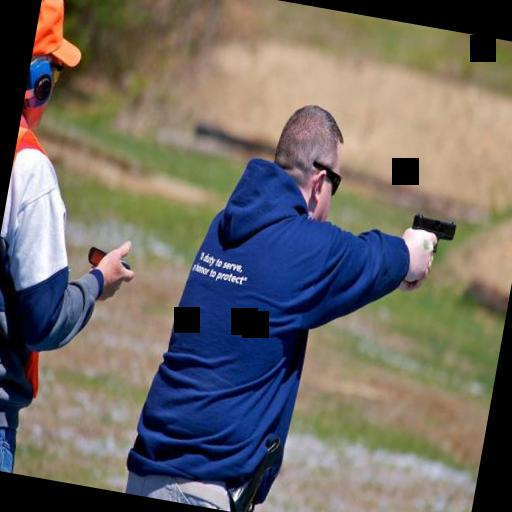Handgun: (406, 208, 456, 256)
